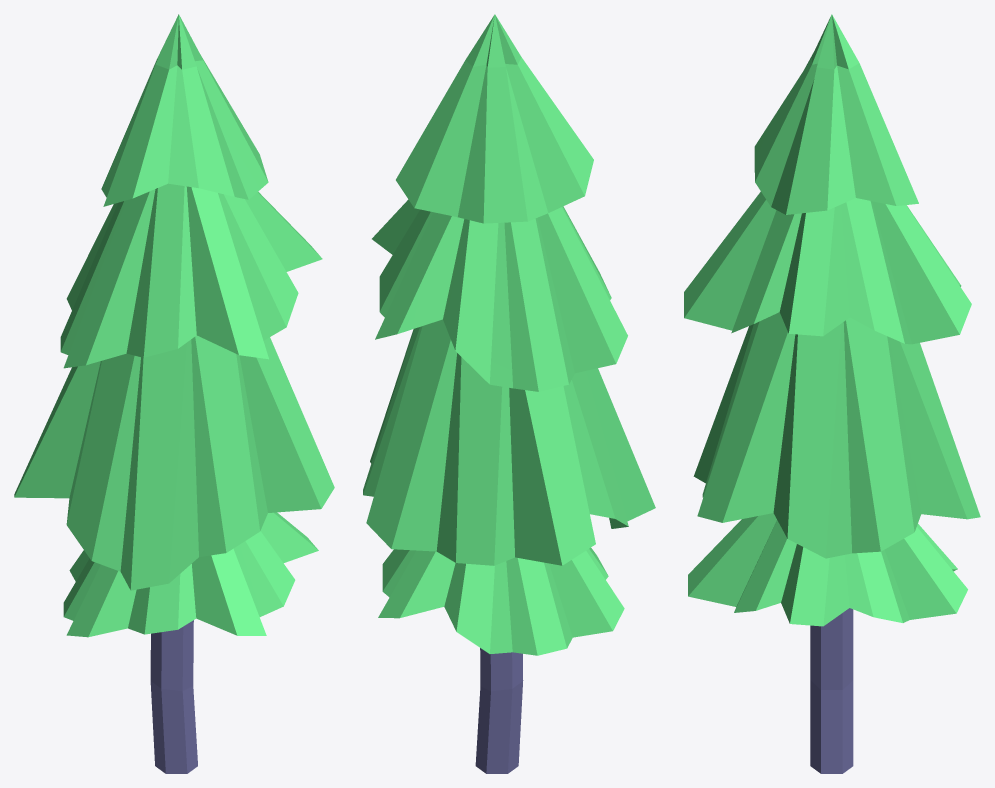
File: SM_Tree_02.fbx
The picture shows the model from 3 angles, left to right: view 1: azimuth 30°, elevation 25°; view 2: azimuth 150°, elevation 25°; view 3: azimuth 270°, elevation 25°; orthographic projection.
Parts seen in each view (by area): view 1: Tree Type2 04 Model; view 2: Tree Type2 04 Model; view 3: Tree Type2 04 Model.
Boxes of the visible parts, x1,y1,x2,y2 form: Tree Type2 04 Model: (14, 14, 334, 773); Tree Type2 04 Model: (363, 14, 655, 773); Tree Type2 04 Model: (684, 14, 980, 773).
Size of the model in its own units: 189 by 521 by 186.
